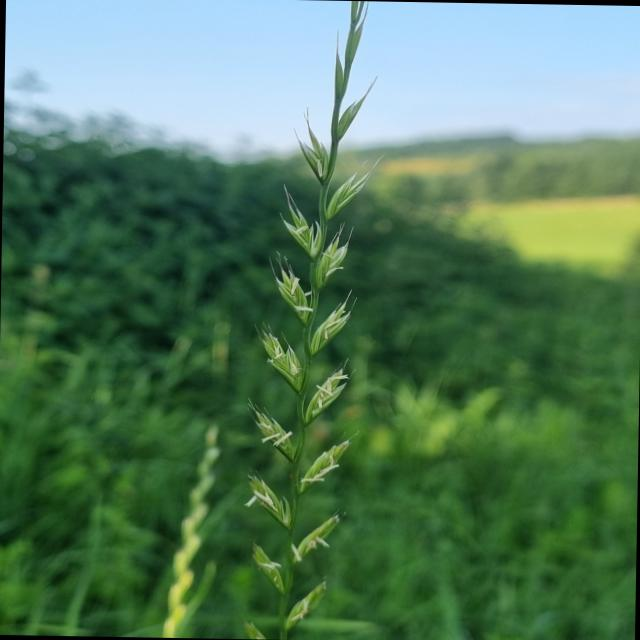Lolium: (236, 1, 386, 640)
